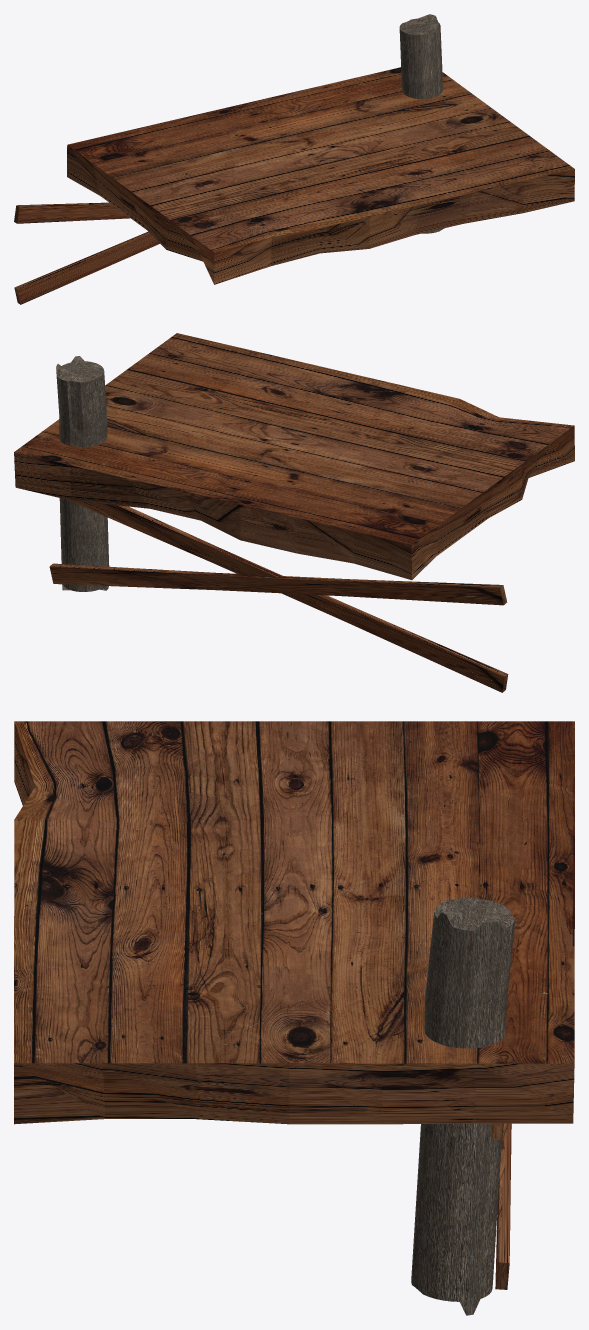
Rendered from docks_left.fbx.
3 views of the same model, one above another, from view 1: azimuth 30°, elevation 25°; view 2: azimuth 150°, elevation 25°; view 3: azimuth 270°, elevation 25° (orthographic). The views are drawn at different scales.
Parts seen in each view (by area): view 1: Cube, Cylinder, Cube.001, Cube.002; view 2: Cube, Cube.002, Cube.001, Cylinder; view 3: Cube, Cylinder, Cube.002.
Part boxes in pixels (x1,y1,x2,y2): Cube: (67, 67, 574, 284); Cylinder: (399, 14, 443, 233); Cube.001: (14, 231, 159, 304); Cube.002: (14, 202, 130, 223); Cube: (14, 333, 574, 579); Cube.002: (49, 563, 507, 605); Cube.001: (67, 499, 508, 692); Cylinder: (56, 356, 109, 591); Cube: (14, 721, 574, 1124); Cylinder: (411, 898, 515, 1315); Cube.002: (495, 1123, 511, 1289).
Bounding box in the file's own units: 1363 × 632 × 812.
Materials: 4 (4 with a texture image).
